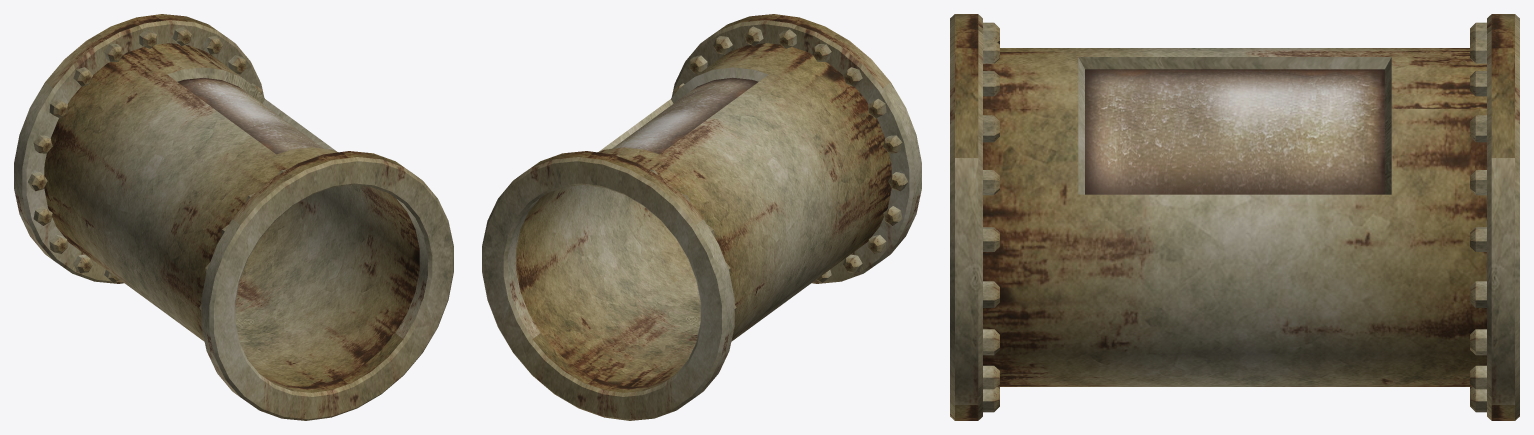
The model's file is pipe-I.glb.
3 views of the same model, side by side, from view 1: azimuth 30°, elevation 25°; view 2: azimuth 150°, elevation 25°; view 3: azimuth 270°, elevation 25° (orthographic). The views are drawn at different scales.
Visible parts, largest first — view 1: Boole, Tube; view 2: Boole, Tube; view 3: Boole, Tube, Cylinder_18, Cylinder_15, Cylinder_14, Cylinder_19, Cylinder_17, Cylinder_16, Cylinder_0, Cylinder_13, Cylinder_12, Cylinder_1.
Boxes of the visible parts, bbox=[...] form: Boole: bbox=[44, 43, 419, 386]; Tube: bbox=[14, 14, 453, 420]; Boole: bbox=[516, 43, 891, 386]; Tube: bbox=[482, 14, 921, 420]; Boole: bbox=[983, 48, 1486, 386]; Tube: bbox=[950, 14, 1519, 420]; Cylinder_18: bbox=[983, 115, 1486, 142]; Cylinder_15: bbox=[983, 281, 1486, 307]; Cylinder_14: bbox=[983, 329, 1486, 355]; Cylinder_19: bbox=[983, 71, 1486, 96]; Cylinder_17: bbox=[983, 170, 1486, 195]; Cylinder_16: bbox=[983, 227, 1486, 251]; Cylinder_0: bbox=[983, 39, 1486, 63]; Cylinder_13: bbox=[983, 365, 1486, 389]; Cylinder_12: bbox=[983, 387, 1486, 410]; Cylinder_1: bbox=[983, 22, 1486, 43].
Size of the model in its own units: 1.43 by 1.44 by 2.02.
2 materials, 2 textured.
